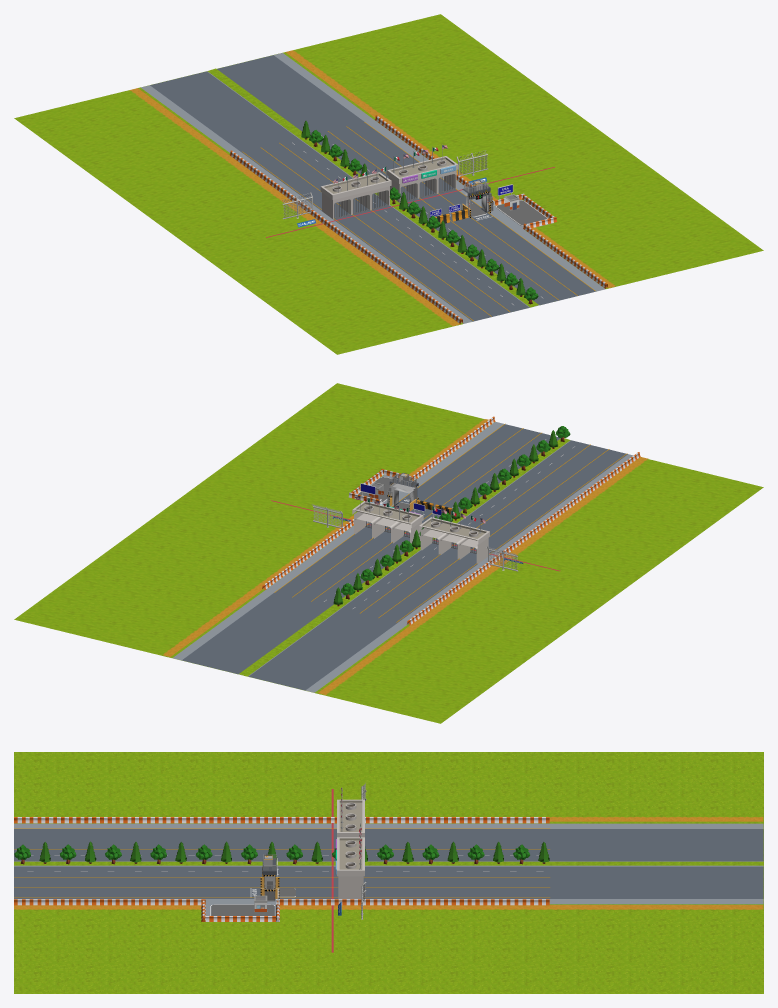
The picture shows the model from 3 angles, top to bottom: view 1: azimuth 30°, elevation 25°; view 2: azimuth 150°, elevation 25°; view 3: azimuth 270°, elevation 25°; orthographic projection. The views are drawn at different scales.
Parts seen in each view (by area): view 1: ground-1, road, ground-2, divider-1, trees, gate-1, gate-2, fence, SM_Scanner_1; view 2: ground-1, road, ground-2, divider-1, trees, gate-1, gate-2, fence; view 3: ground-1, road, divider-1, ground-2, trees, gate-2, gate-1, SM_Scanner_1.
Part boxes in pixels (left/top/right/bottom): ground-1: left=14, top=14, right=763, bottom=354; road: left=141, top=53, right=605, bottom=323; ground-2: left=129, top=50, right=615, bottom=326; divider-1: left=229, top=115, right=608, bottom=323; trees: left=301, top=120, right=538, bottom=304; gate-1: left=320, top=165, right=391, bottom=219; gate-2: left=387, top=144, right=458, bottom=202; fence: left=282, top=150, right=487, bottom=219; SM_Scanner_1: left=462, top=180, right=493, bottom=217; ground-1: left=14, top=383, right=763, bottom=723; road: left=172, top=422, right=633, bottom=692; ground-2: left=163, top=419, right=648, bottom=694; divider-1: left=262, top=416, right=640, bottom=625; trees: left=333, top=426, right=570, bottom=606; gate-1: left=419, top=505, right=489, bottom=563; gate-2: left=352, top=495, right=423, bottom=543; fence: left=312, top=504, right=518, bottom=571; ground-1: left=14, top=752, right=763, bottom=993; road: left=14, top=789, right=763, bottom=952; divider-1: left=14, top=817, right=549, bottom=921; ground-2: left=14, top=816, right=763, bottom=909; trees: left=14, top=841, right=549, bottom=864; gate-2: left=335, top=823, right=364, bottom=898; gate-1: left=337, top=787, right=364, bottom=837; SM_Scanner_1: left=260, top=854, right=279, bottom=901.
Size of the model in its own units: 58.49 by 5.13 by 76.72.
26 materials, 10 textured.
